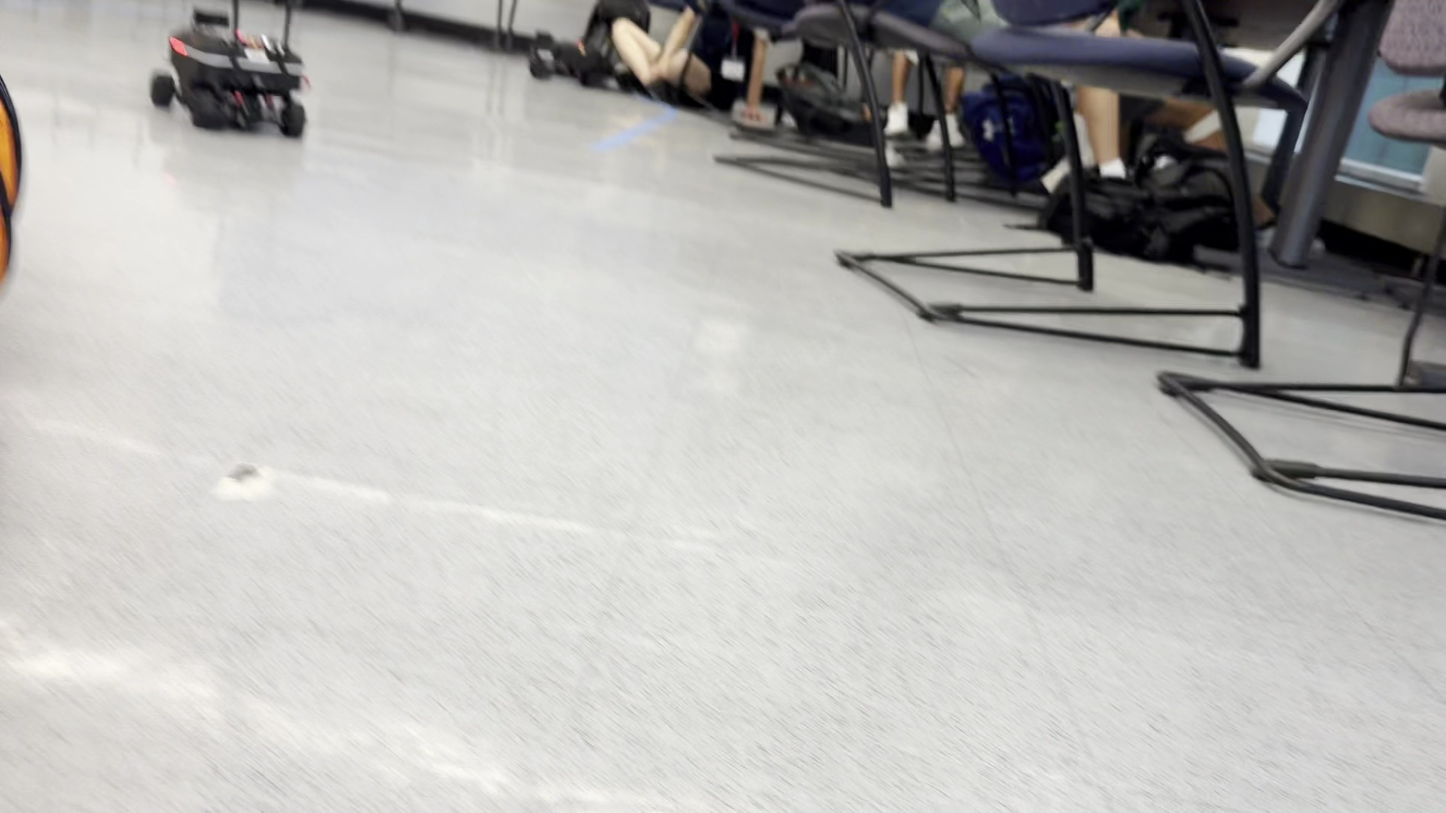racecar: (153, 0, 308, 135)
